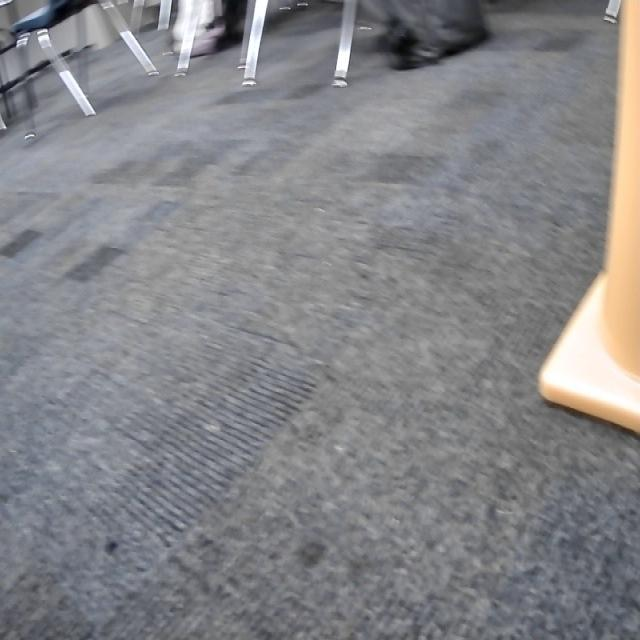cone: (537, 0, 640, 437)
